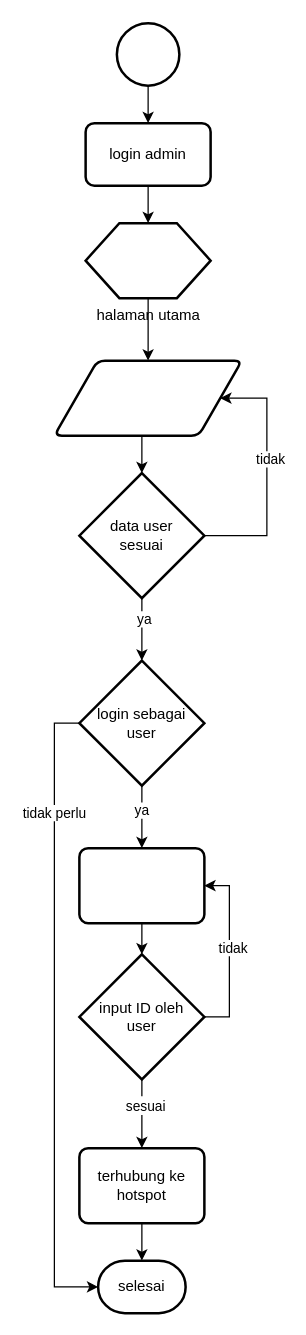
Some shapes in this 306 by 1335 pixel diagram are drawn without their labels. The centre of each missing label's shape, as x and y in pixels:
"input user ke server" belongs at pixel 147 397.
"login user" belongs at pixel 141 885.
"mulai" belongs at pixel 147 53.
